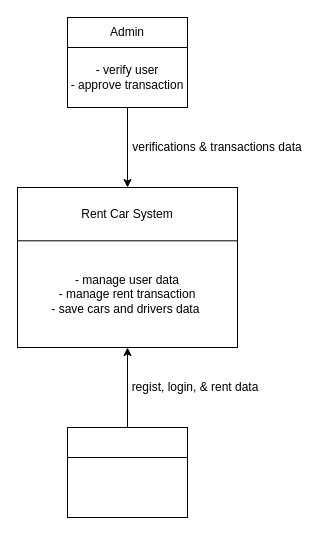
Image size: 325x535. Some labels were removed from this diagram. The box of each missing label's shape, as (x1, y1, x2, y2) in pixels:
- regist & login - upload data regist - rent a car - see status: (66, 446, 188, 518)
Users: (66, 426, 188, 458)
